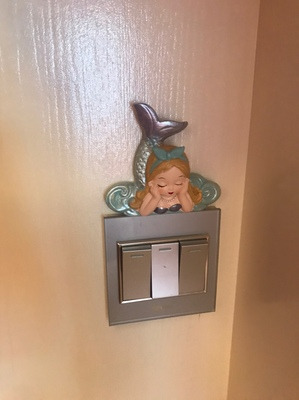switch: (176, 238, 213, 298), (119, 242, 154, 305), (150, 241, 182, 301)
